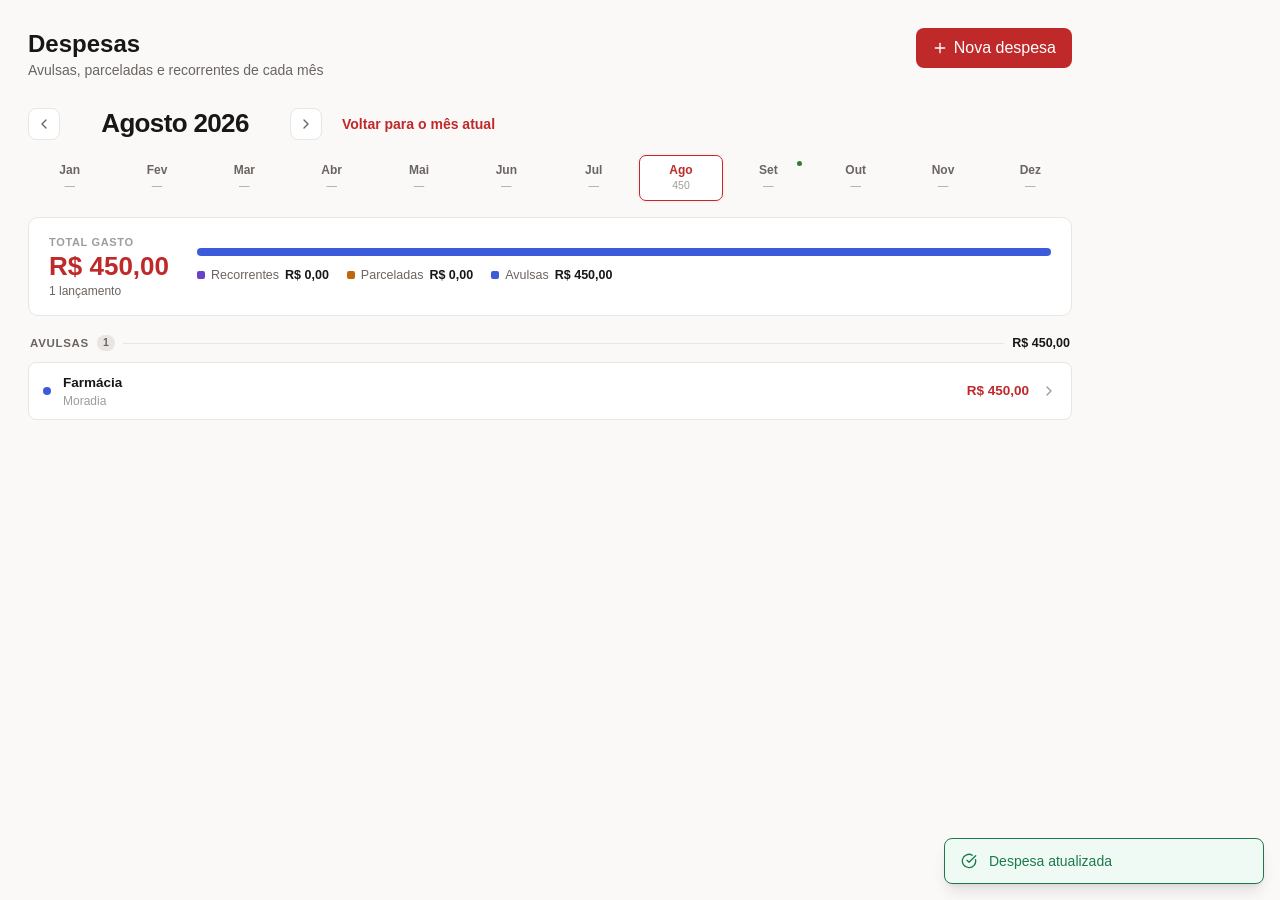
Test: página de despesas: Ficha de avulsa › não oferece Editar nem Remover em avulsa de mês passado
Click the button "Farmácia Moradia R$ 450,00" at {"x": 93, "y": 382}, box [28, 362, 1072, 420]
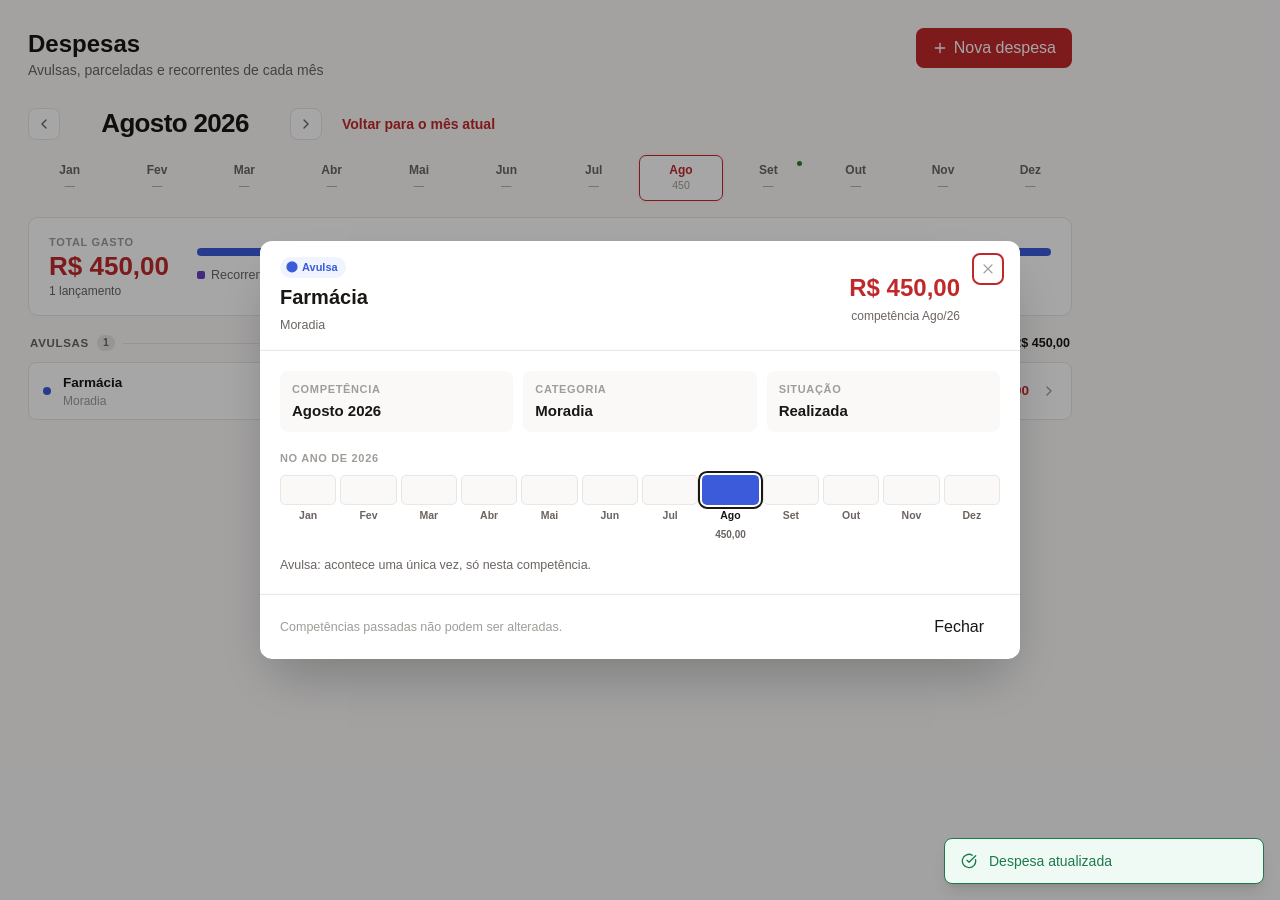
Check: the text "Realizada" is shown, box [779, 402, 848, 419]
Check: the text "Competências passadas não podem ser alteradas." is shown, box [280, 618, 562, 637]
